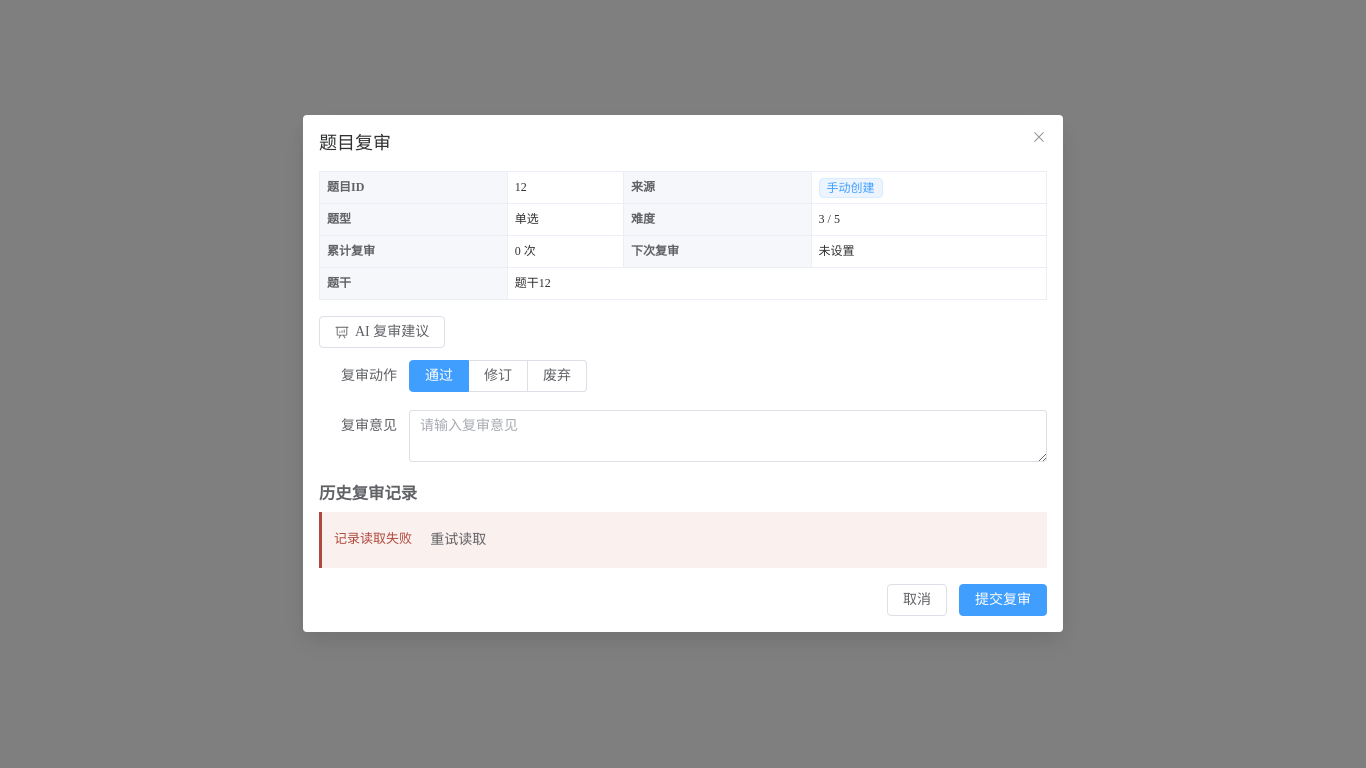
Test: QuestionReviewDialog › keeps history failure distinct from no records and retries in place
expect the text "暂无复审记录" is not shown: met
Click the button "重试读取" at (458, 540), box left=415, top=524, right=501, bottom=556
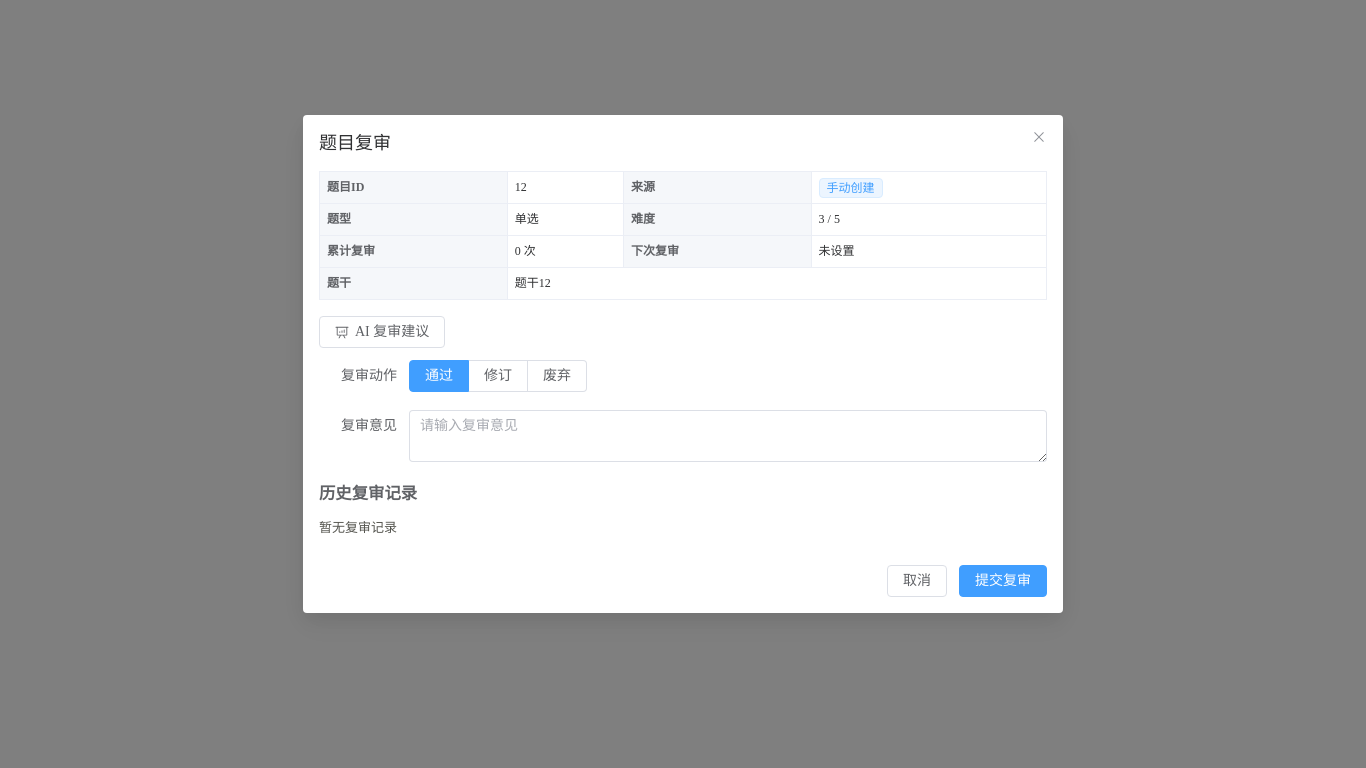
expect the text "暂无复审记录" is shown: met, box left=319, top=520, right=397, bottom=535
